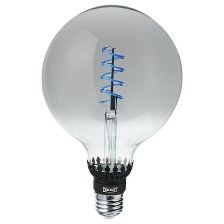light_bulb: (38, 2, 187, 224)
